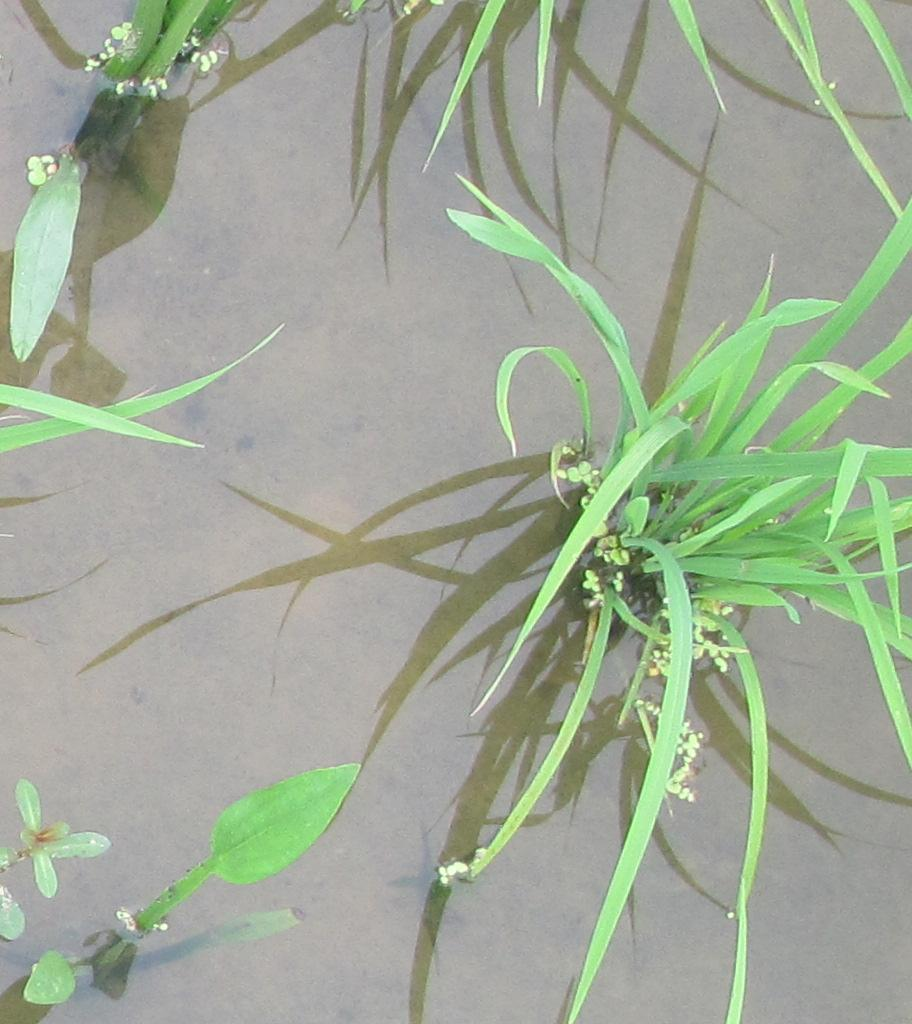Weed: (196, 760, 372, 877), (10, 164, 86, 371)
